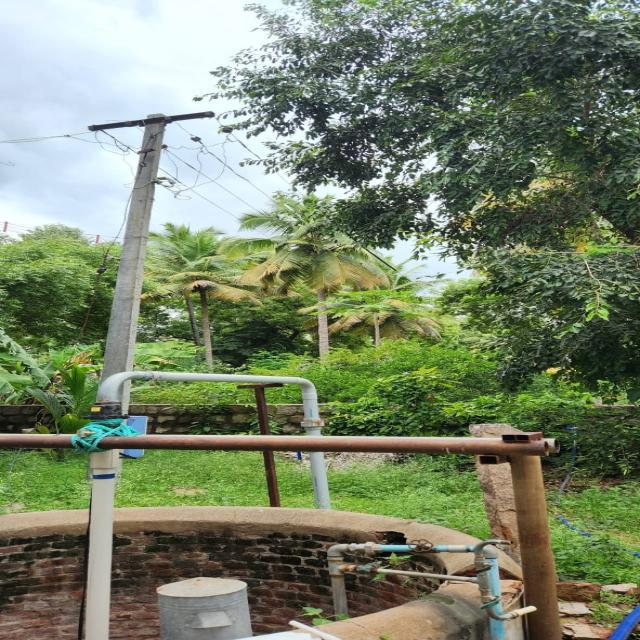Coconut-tree: (259, 191, 356, 363), (155, 223, 243, 369), (350, 260, 420, 354)
